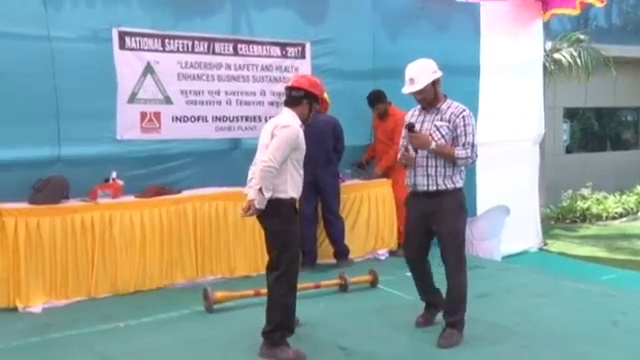helmet: (399, 57, 445, 94), (286, 73, 329, 102)
helmet_off: (367, 89, 392, 117)
helmet_on: (399, 54, 446, 113), (284, 71, 330, 122)
person: (240, 69, 329, 360), (396, 56, 476, 348), (357, 89, 410, 256), (305, 91, 355, 267)
